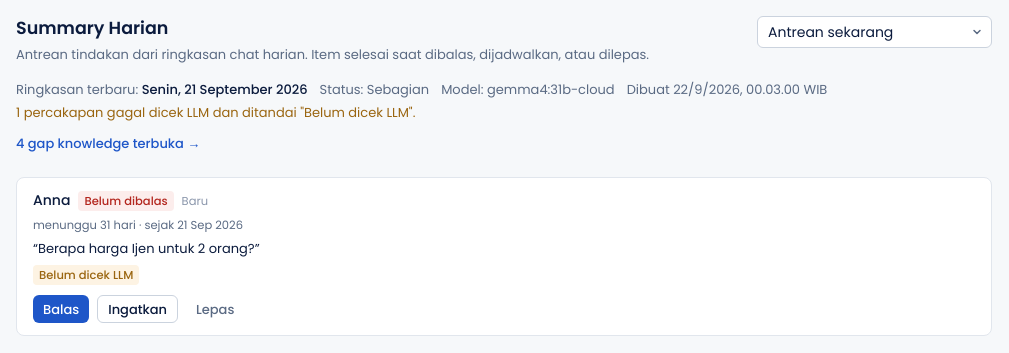
Test: DailySummaryPage › memilih tanggal menulis ?date= ke URL, memuat tanggal itu, dan menampilkan status sekarang
Expected: the link "Balas" is shown, [33,295,89,323]
Select "Minggu, 20 September 2026" in the dropdown named "Pilih tampilan". click: [874, 32]
box: [757,16,992,48]
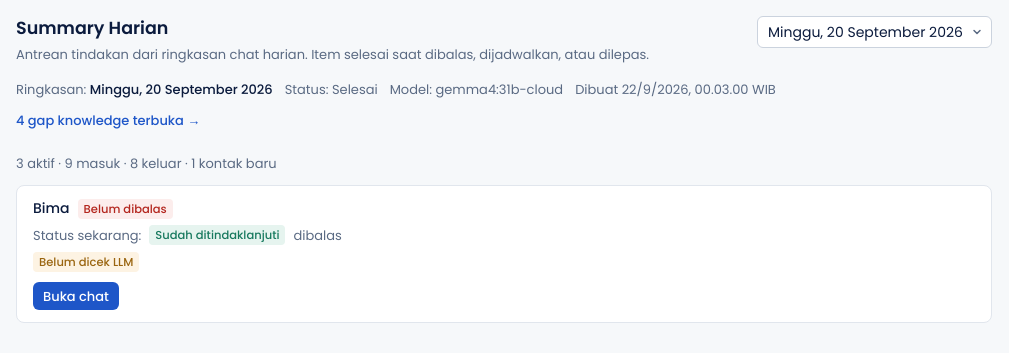
Expected: the text "Sudah ditindaklanjuti" is shown, [149,225,286,245]
Expected: the text "3 aktif · 9 masuk · 8 keluar · 1 kontak baru" is shown, [16,154,277,173]
Expected: the text "Status: Selesai" is shown, [285,80,378,99]
Select "Antrean sekarang" in the dropdown named "Pilih tampilan". click: [874, 32]
box: [757,16,992,48]
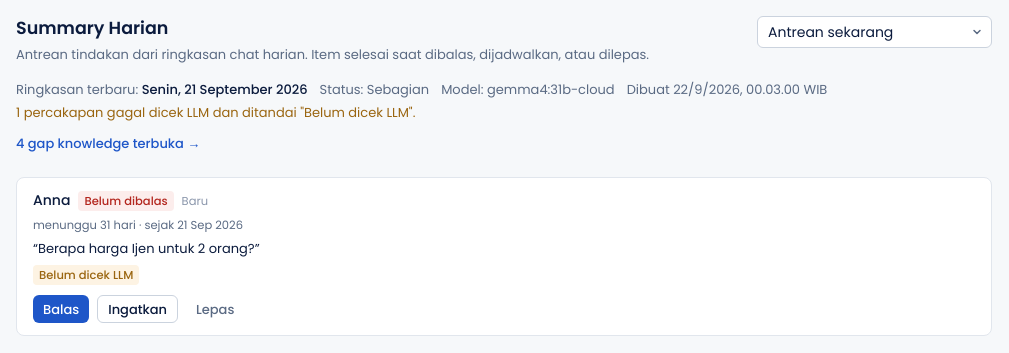
Expected: the link "Balas" is shown, [33,295,89,323]
